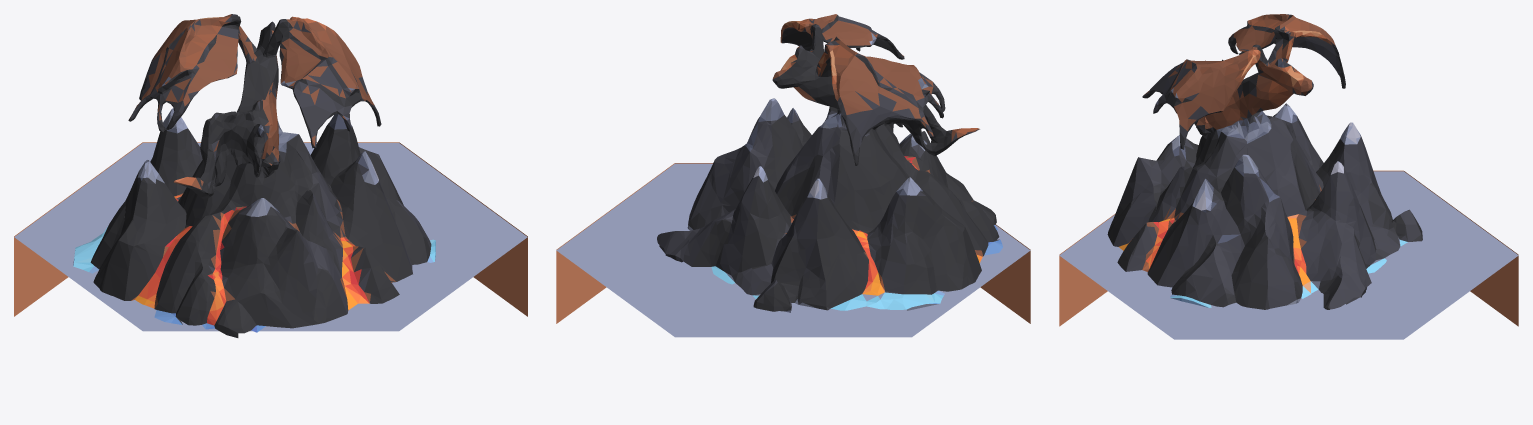
File: dragon-mountain-sea.glb
3 views of the same model, side by side, from view 1: azimuth 30°, elevation 25°; view 2: azimuth 150°, elevation 25°; view 3: azimuth 270°, elevation 25° (orthographic). The views are drawn at different scales.
Parts seen in each view (by area): view 1: world, hexBase; view 2: world, hexBase; view 3: world, hexBase.
Boxes of the visible parts, box(x1,y1,x2,y2) form: world: box(73, 14, 435, 337); hexBase: box(14, 142, 527, 331); world: box(657, 14, 1002, 312); hexBase: box(556, 163, 1030, 337); world: box(1107, 14, 1422, 309); hexBase: box(1059, 170, 1518, 339).
Size of the model in its own units: 1 by 0.7827 by 1.15.
Materials: 3 (3 with a texture image).
